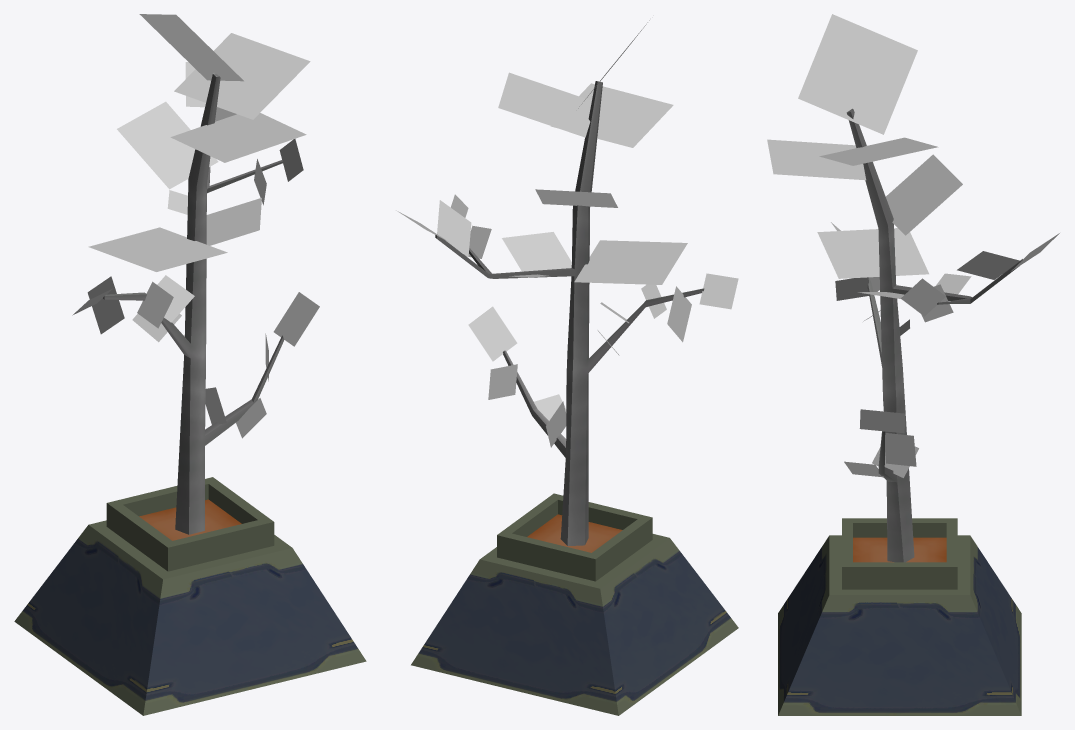
The model's file is mdlPlantPot1.fbx.
3 renders of one model, left to right at view 1: azimuth 30°, elevation 25°; view 2: azimuth 150°, elevation 25°; view 3: azimuth 270°, elevation 25°, orthographic. The views are drawn at different scales.
Parts seen in each view (by area): view 1: Pot, Leaves; view 2: Pot, Leaves; view 3: Pot, Leaves.
Part boxes in pixels (x1,y1,x2,y2): Pot: (14, 72, 366, 715); Leaves: (72, 14, 319, 438); Pot: (411, 81, 738, 715); Leaves: (396, 20, 738, 447); Pot: (778, 108, 1022, 715); Leaves: (767, 14, 1059, 477).
Bounding box in the file's own units: 1.9 × 4.61 × 1.95.
